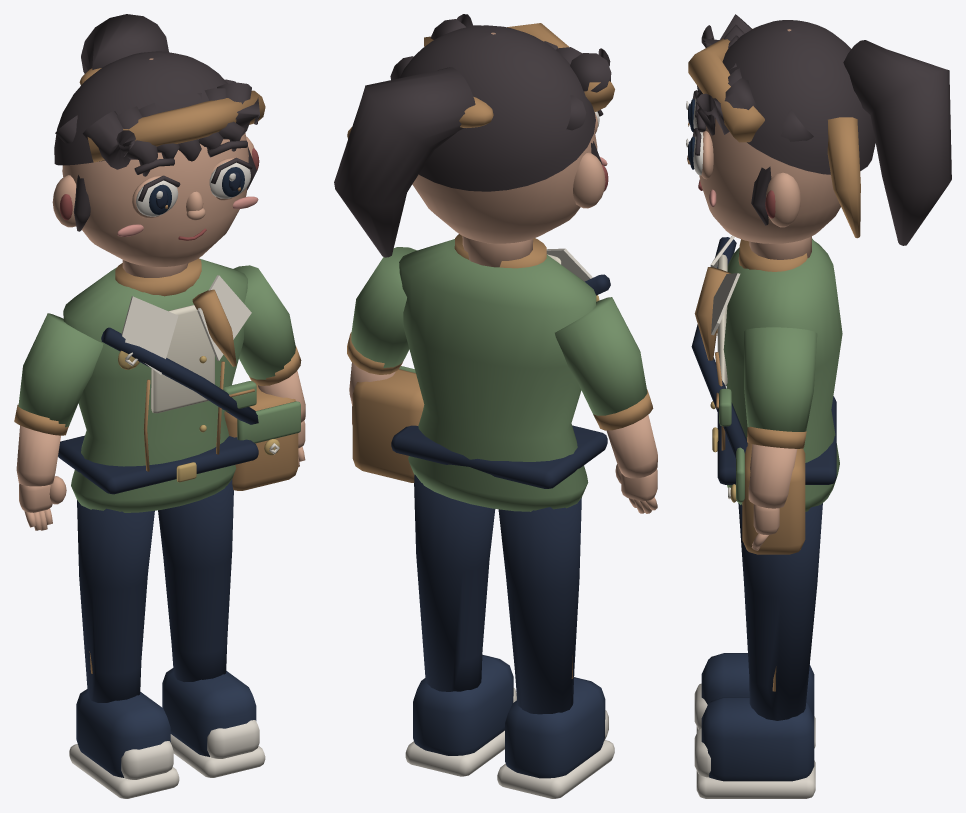
The model's file is npc_survivalridge_trainer_4.glb.
The picture shows the model from 3 angles, left to right: view 1: azimuth 30°, elevation 25°; view 2: azimuth 150°, elevation 25°; view 3: azimuth 270°, elevation 25°; orthographic projection. The views are drawn at different scales.
Visible parts, largest first — view 1: figure.071; view 2: figure.071; view 3: figure.071.
Part boxes in pixels (x1=…): figure.071: x1=14, y1=14, x2=305, y2=798; figure.071: x1=334, y1=14, x2=657, y2=798; figure.071: x1=686, y1=14, x2=951, y2=798.
Size of the model in its own units: 0.6761 by 1.58 by 0.5184.
